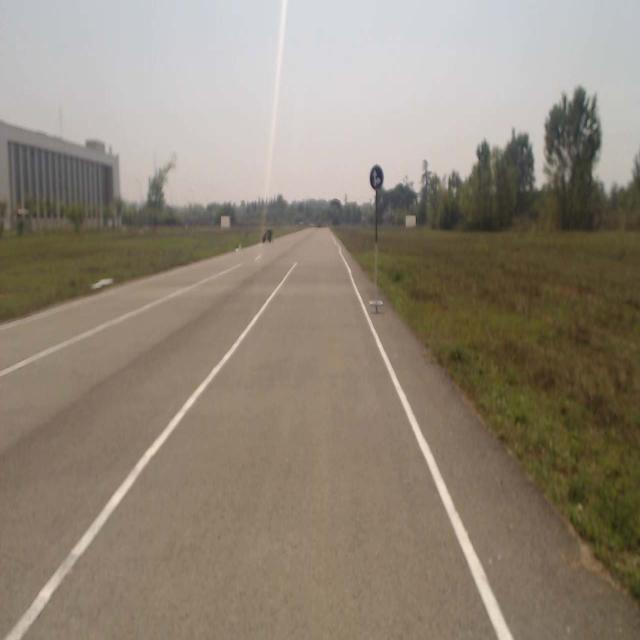ilerisag: (371, 166, 384, 190)
